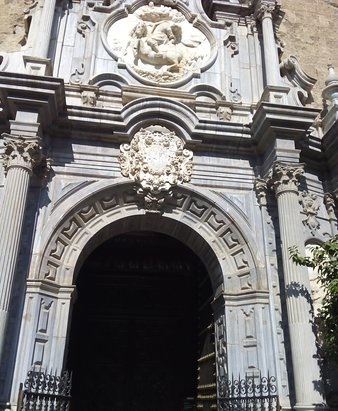arco-medio-punto: (63, 208, 231, 309)
